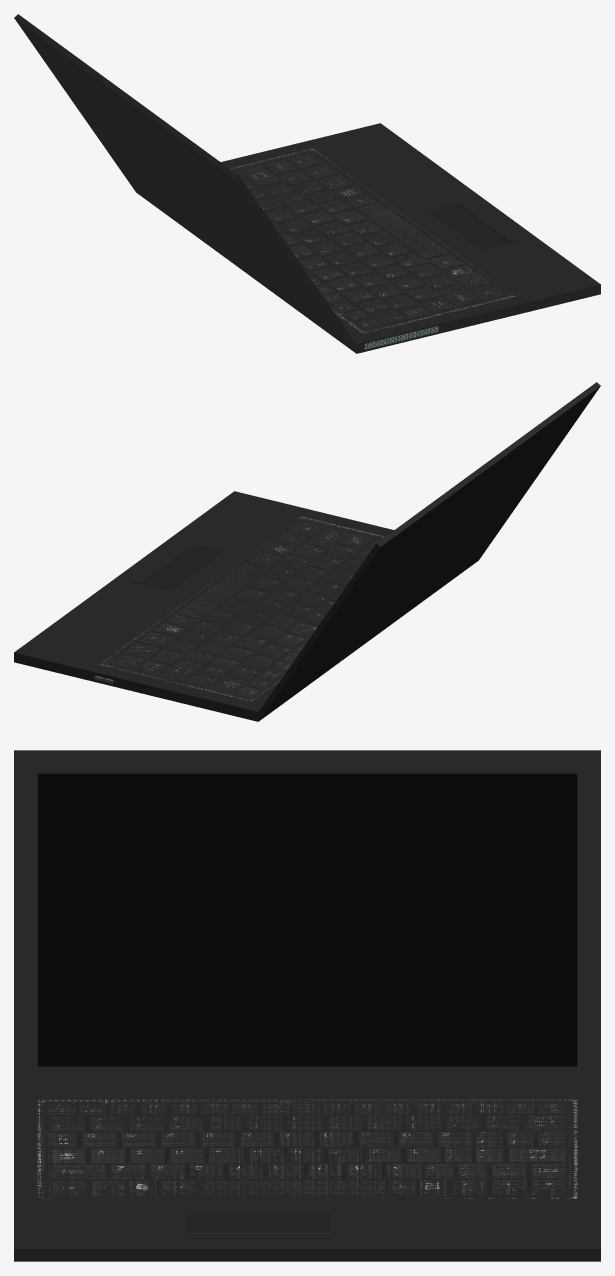
The picture shows the model from 3 angles, top to bottom: view 1: azimuth 30°, elevation 25°; view 2: azimuth 150°, elevation 25°; view 3: azimuth 270°, elevation 25°; orthographic projection. The views are drawn at different scales.
Visible parts, largest first — view 1: mesh1-geometry-3, mesh1-geometry-4, mesh1-geometry-1, mesh1-geometry-5; view 2: mesh1-geometry-3, mesh1-geometry-4, mesh1-geometry-1; view 3: mesh1-geometry-6, mesh1-geometry-3, mesh1-geometry-4, mesh1-geometry-1.
Boxes of the visible parts, x1=… form: mesh1-geometry-3: x1=14, y1=14, x2=600, y2=353; mesh1-geometry-4: x1=231, y1=148, x2=514, y2=333; mesh1-geometry-1: x1=429, y1=204, x2=510, y2=250; mesh1-geometry-5: x1=364, y1=326, x2=438, y2=349; mesh1-geometry-3: x1=14, y1=382, x2=600, y2=721; mesh1-geometry-4: x1=100, y1=516, x2=383, y2=701; mesh1-geometry-1: x1=94, y1=544, x2=223, y2=683; mesh1-geometry-6: x1=37, y1=773, x2=577, y2=1066; mesh1-geometry-3: x1=14, y1=750, x2=600, y2=1261; mesh1-geometry-4: x1=37, y1=1099, x2=577, y2=1198; mesh1-geometry-1: x1=186, y1=1213, x2=329, y2=1231.
Bounding box in the file's own units: 0.6486 × 0.3505 × 0.6757.
